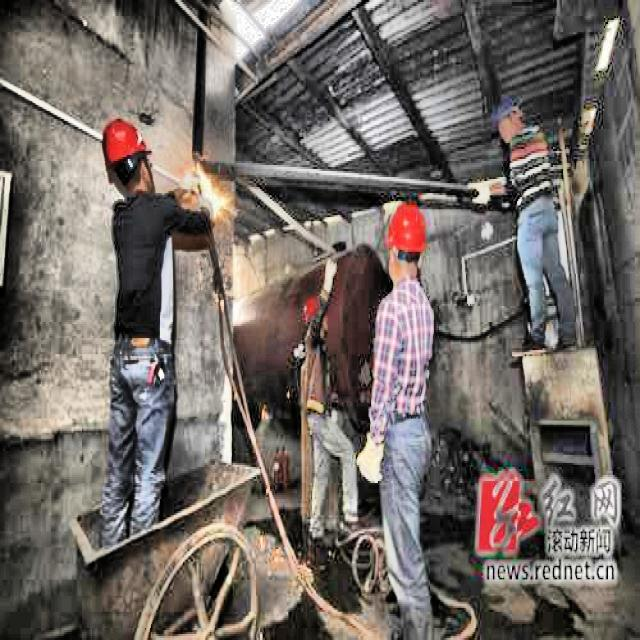helmet: (384, 199, 429, 288), (100, 117, 148, 191), (304, 292, 332, 338)
